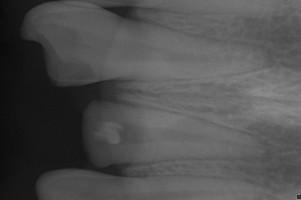Furcation Involvement: (239, 117, 301, 189)
